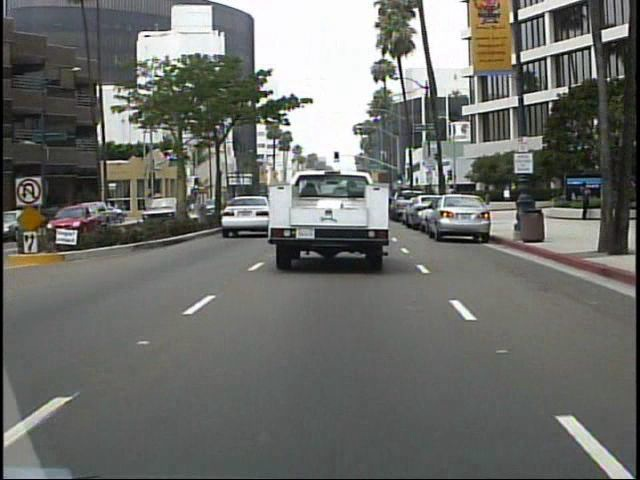person: (581, 178, 594, 225)
